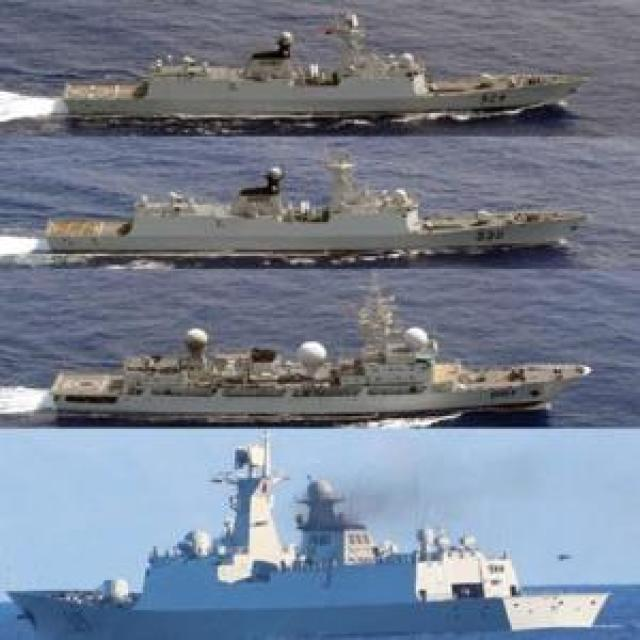navalvessels: (14, 456, 618, 640), (32, 298, 594, 420), (29, 159, 580, 268), (55, 22, 580, 136)
